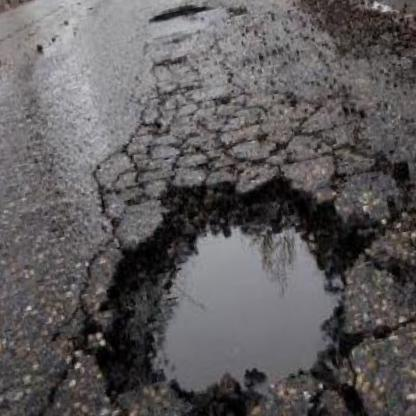pothole: (64, 146, 395, 416), (149, 0, 210, 26)
